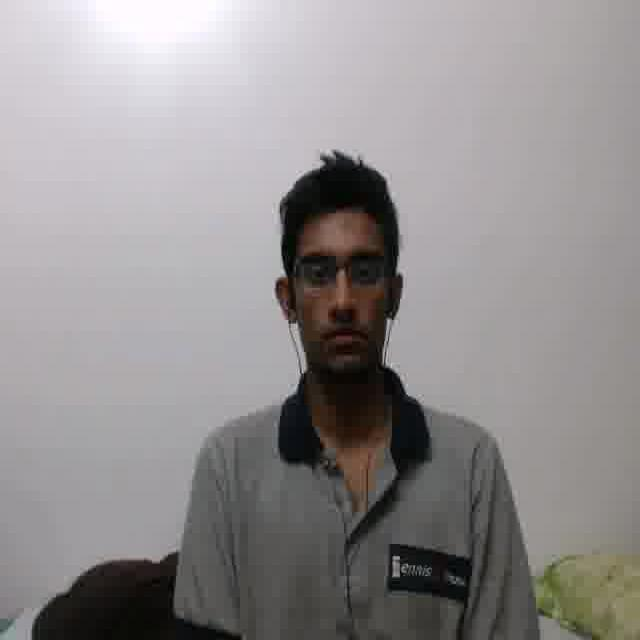Engaged: (292, 205, 387, 374)
